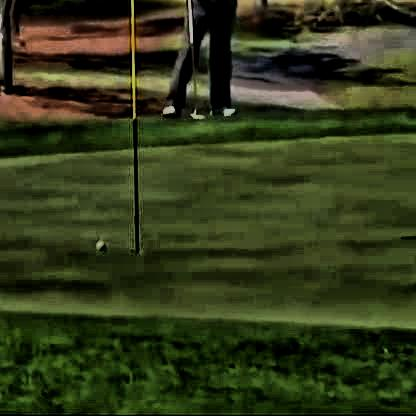golfball: (95, 237, 102, 247)
